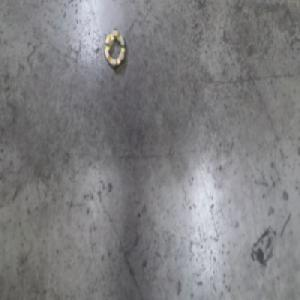Nut: (103, 28, 126, 70)
